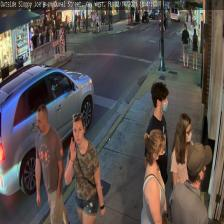person: (64, 114, 105, 224), (143, 82, 170, 224), (33, 105, 63, 224), (170, 142, 213, 223), (140, 128, 168, 224), (171, 113, 193, 222), (181, 22, 189, 68)
